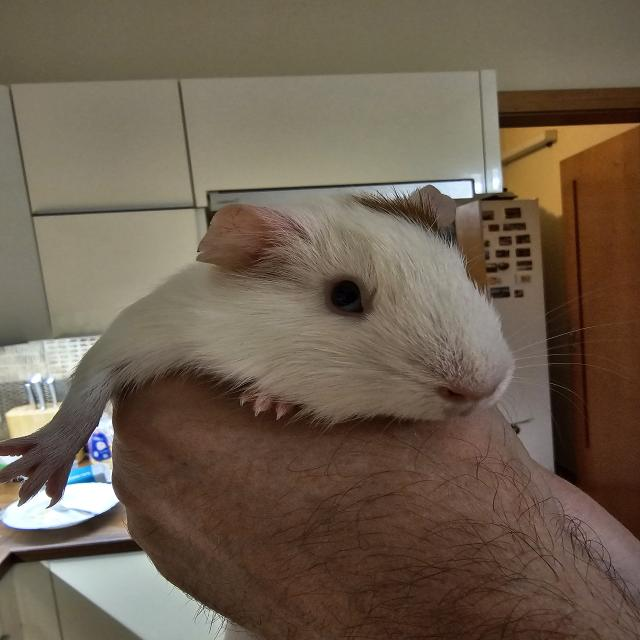guinea pig: (104, 190, 516, 425)
